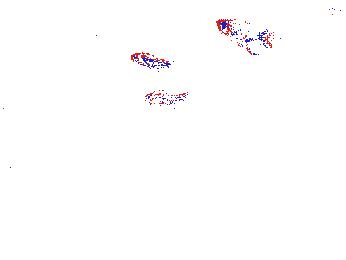red belly glassfish: (143, 87, 190, 109), (129, 50, 173, 72), (321, 3, 341, 20)
redtail glassfish: (215, 16, 275, 51)
